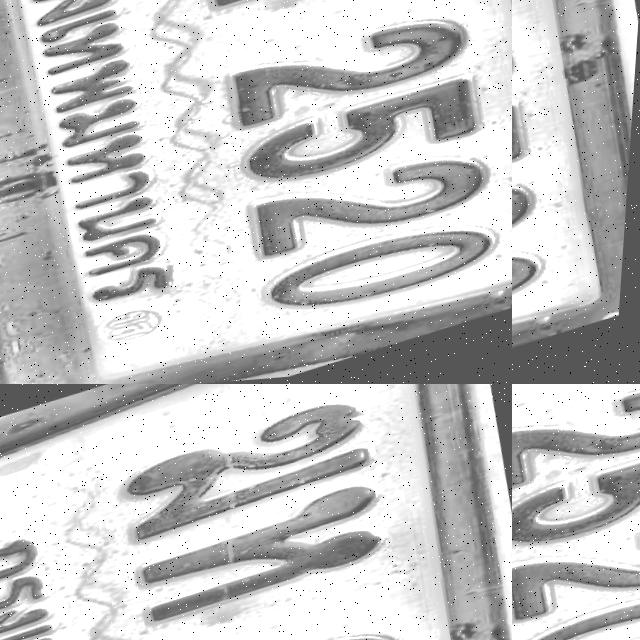license-plate: (258, 384, 510, 529), (512, 384, 640, 640)
